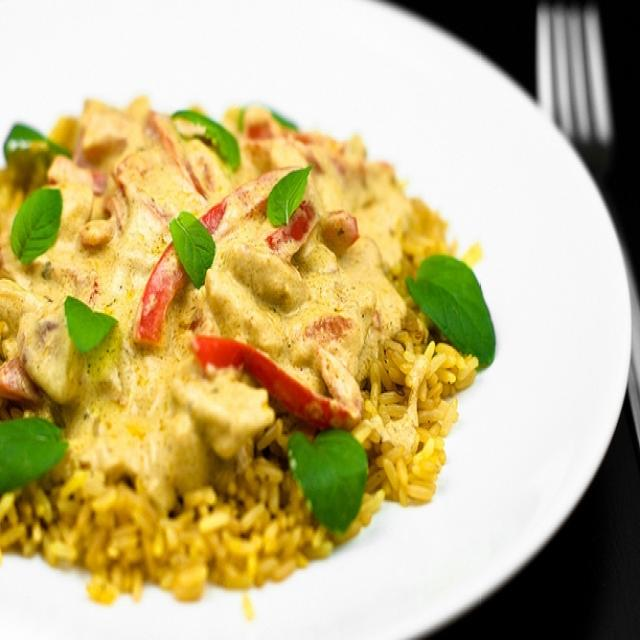米饭主食: (3, 12, 617, 626)
